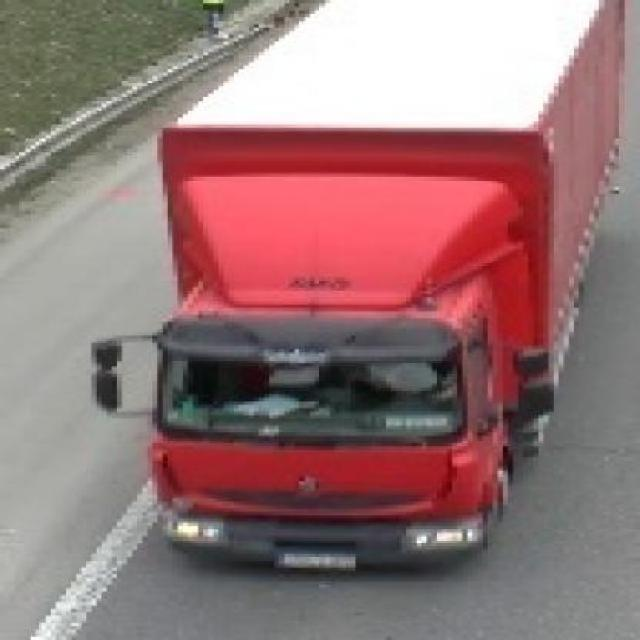truck: (98, 1, 632, 575)
